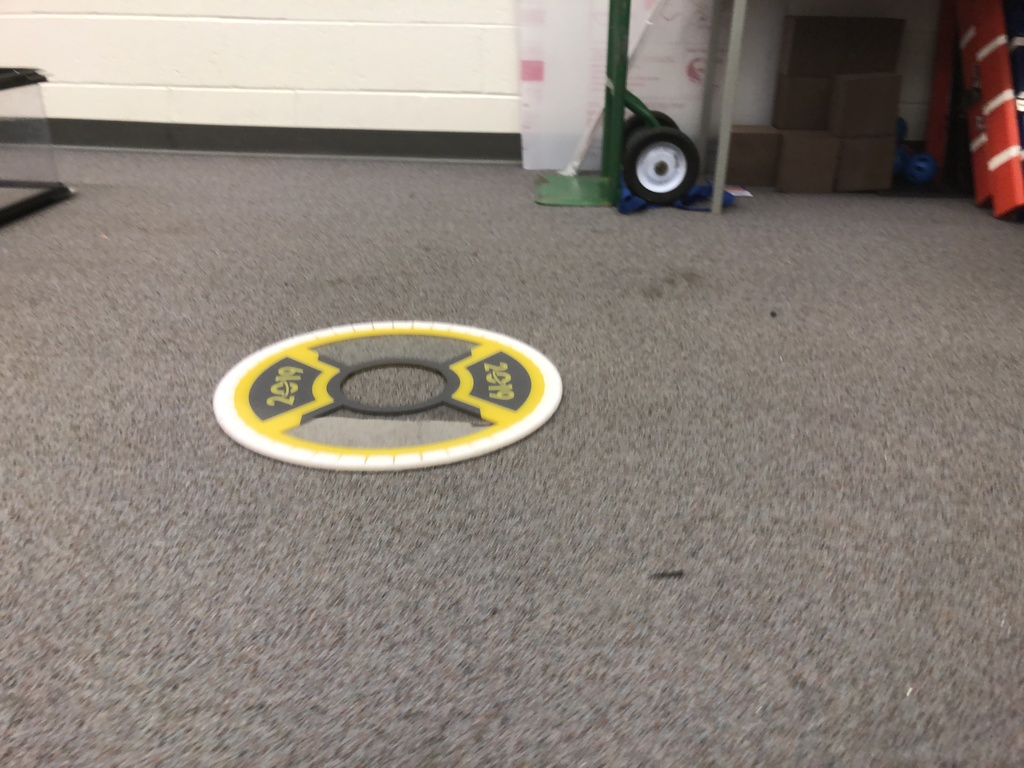hatch_panel: (201, 311, 573, 479)
